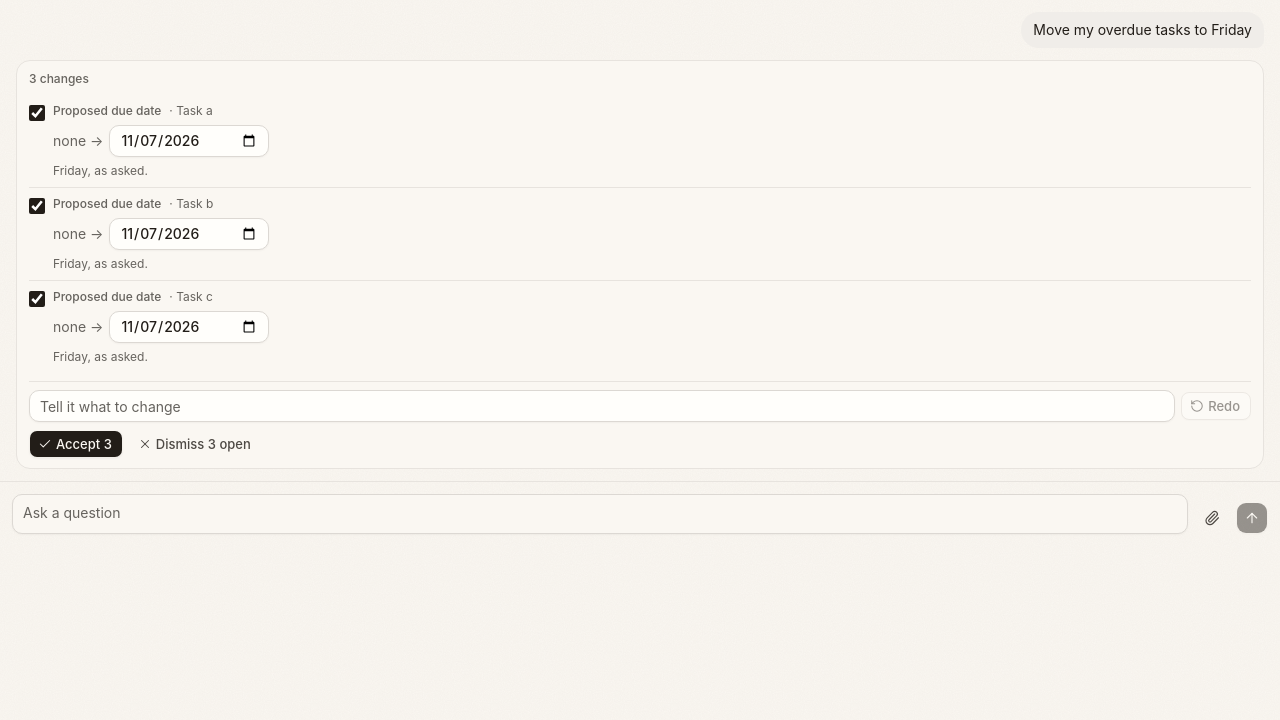
it: one card per answer › accepts only the ticked rows, dismisses the rest, then undoes all
Check: the element with test id "planner-change-set" shows "3 changes", box 29,71 -> 89,86
Check: the element with test id "planner-change-set" shows "Task a", box 176,103 -> 213,118
Click the checkbox named "Include this change" in the row of "Task b": (37, 206) 29,198 -> 45,214
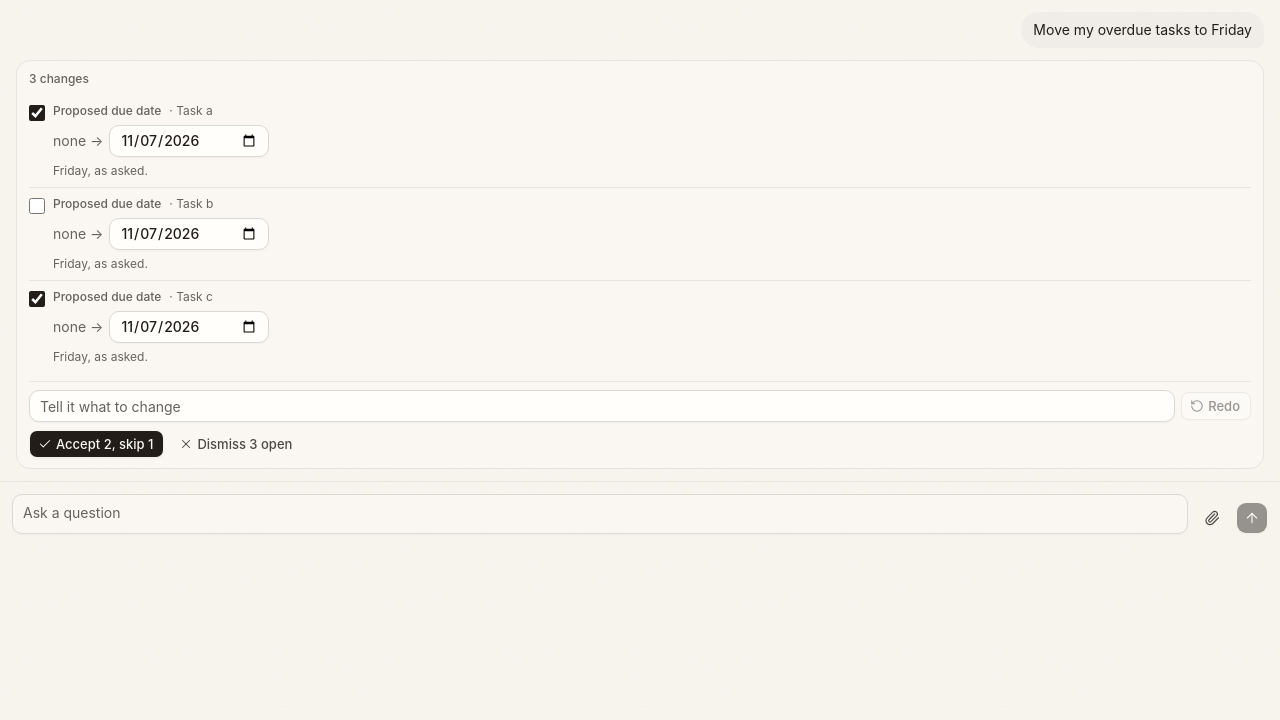
Click the button "Accept 2, skip 1": (97, 444) 29,430 -> 164,458
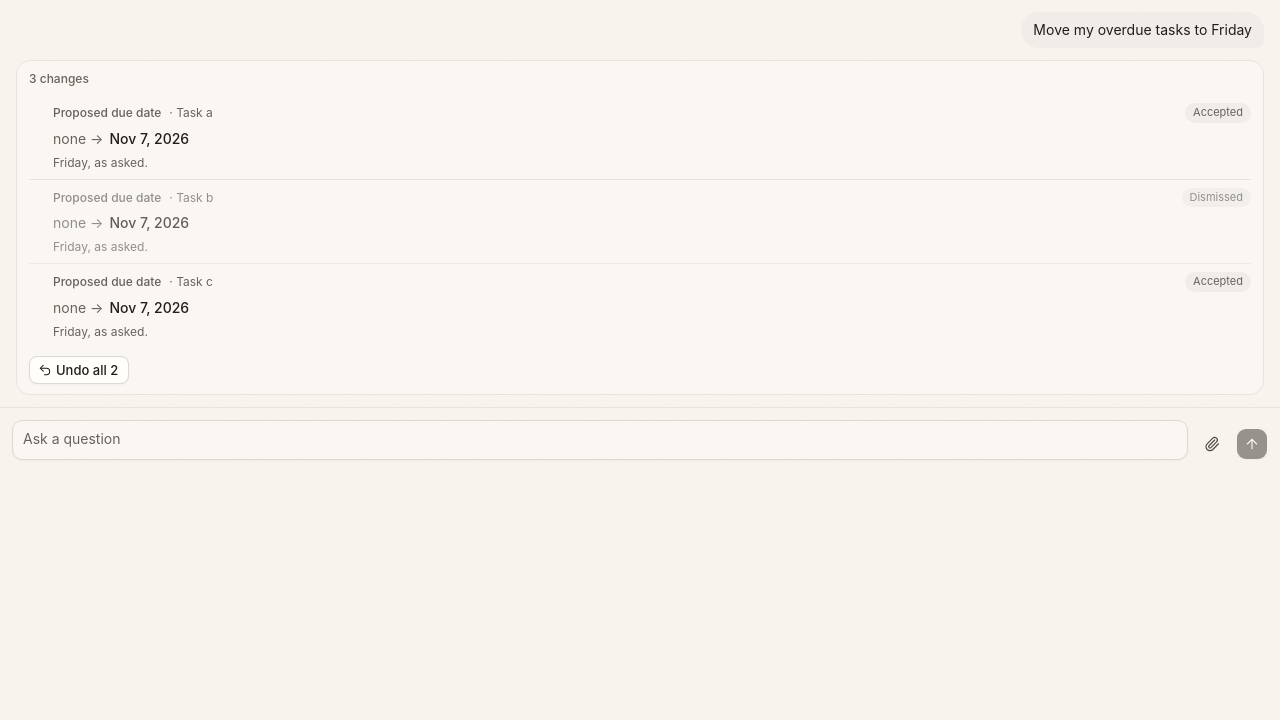
Click the button "Undo all 2": (79, 370) 29,356 -> 129,384
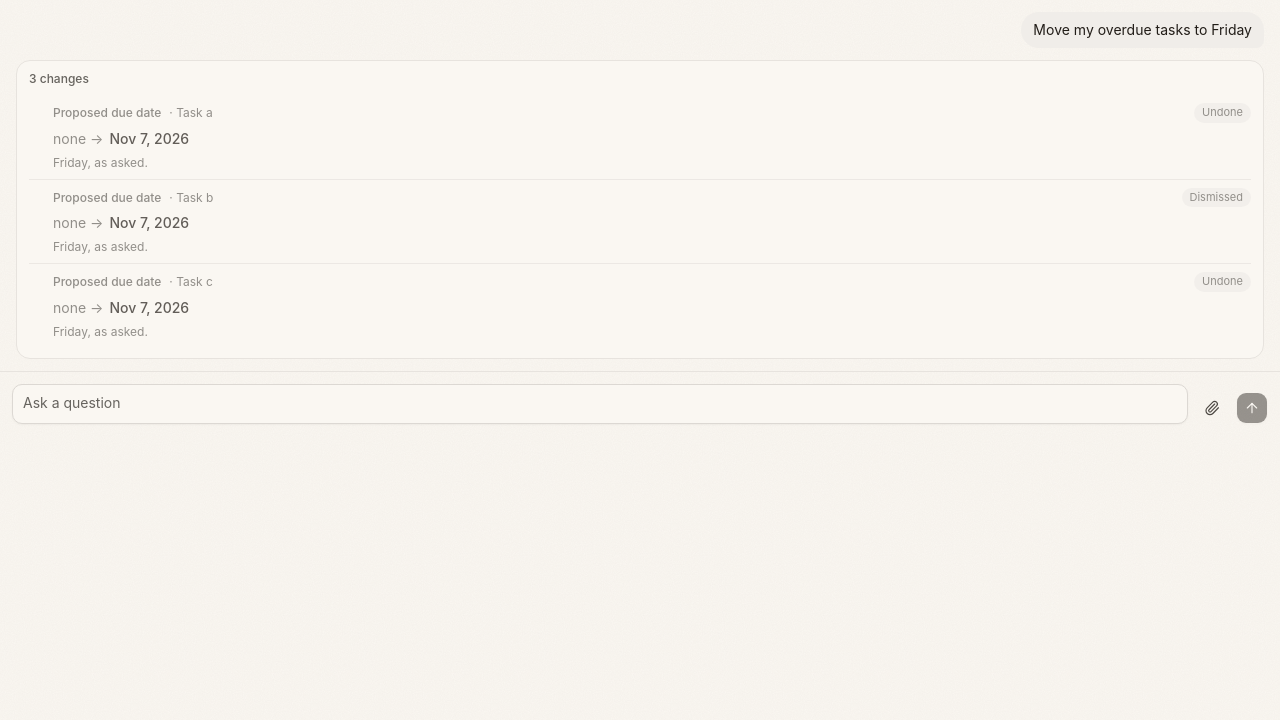
Check: the element with test id "planner-change-set" shows "Undone", box 1202,105 -> 1243,119
